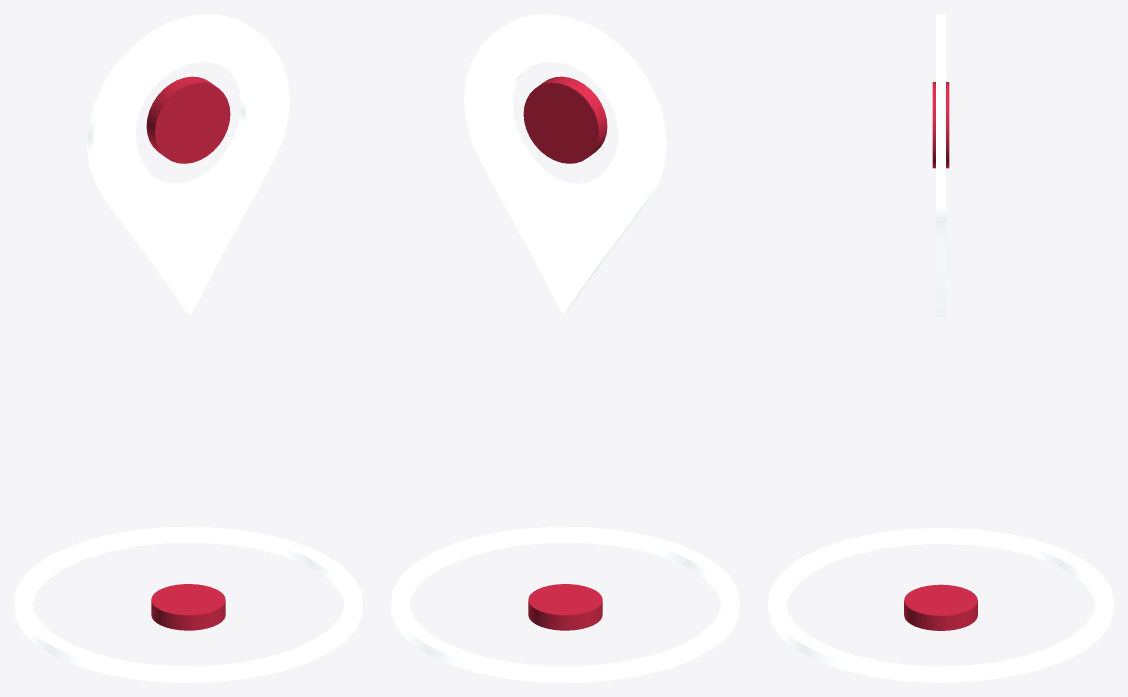
The model's file is marker.glb.
3 renders of one model, left to right at view 1: azimuth 30°, elevation 25°; view 2: azimuth 150°, elevation 25°; view 3: azimuth 270°, elevation 25°, orthographic.
Parts seen in each view (by area): view 1: Cylinder; view 2: Cylinder; view 3: Cylinder.
Boxes of the visible parts, left/top/right/bottom form: Cylinder: left=14, top=14, right=362, bottom=682; Cylinder: left=391, top=14, right=739, bottom=682; Cylinder: left=768, top=14, right=1113, bottom=682.
Size of the model in its own units: 2 by 3.77 by 2.
